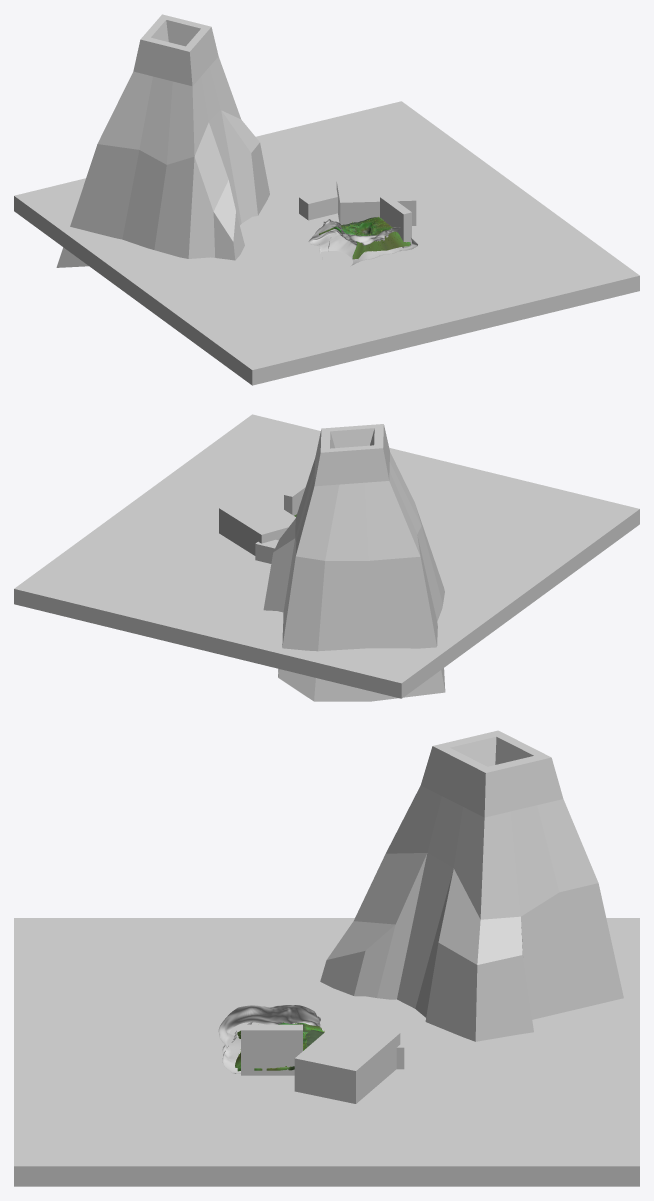
The model's file is rocky mountain_expanded.glb.
3 views of the same model, one above another, from view 1: azimuth 30°, elevation 25°; view 2: azimuth 150°, elevation 25°; view 3: azimuth 270°, elevation 25° (orthographic). The views are drawn at different scales.
Visible parts, largest first — view 1: Cube.001, Cube.004, Cube.003, Plane, Landscape, Cube, Cube.002; view 2: Cube.001, Cube.004, Cube.003, Cube; view 3: Cube.001, Cube.004, Cube.003, Cube, Plane, Landscape.
Part boxes in pixels (x1,y1,x2,y2): Cube.001: [14, 101, 639, 385]; Cube.004: [56, 14, 269, 267]; Cube.003: [336, 178, 416, 225]; Plane: [308, 219, 417, 265]; Landscape: [319, 216, 410, 259]; Cube: [380, 195, 411, 248]; Cube.002: [299, 188, 337, 220]; Cube.001: [14, 414, 639, 698]; Cube.004: [263, 424, 445, 701]; Cube.003: [219, 496, 295, 555]; Cube: [284, 477, 308, 515]; Cube.001: [14, 918, 639, 1186]; Cube.004: [320, 730, 623, 1041]; Cube.003: [294, 1020, 400, 1103]; Cube: [241, 1024, 302, 1075]; Plane: [218, 1005, 320, 1073]; Landscape: [235, 1022, 324, 1071].
Size of the model in its own units: 400 by 224 by 425.
Materials: 2 (2 with a texture image).
